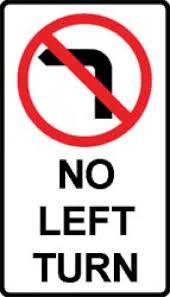No_left_turn: (16, 13, 152, 148)
